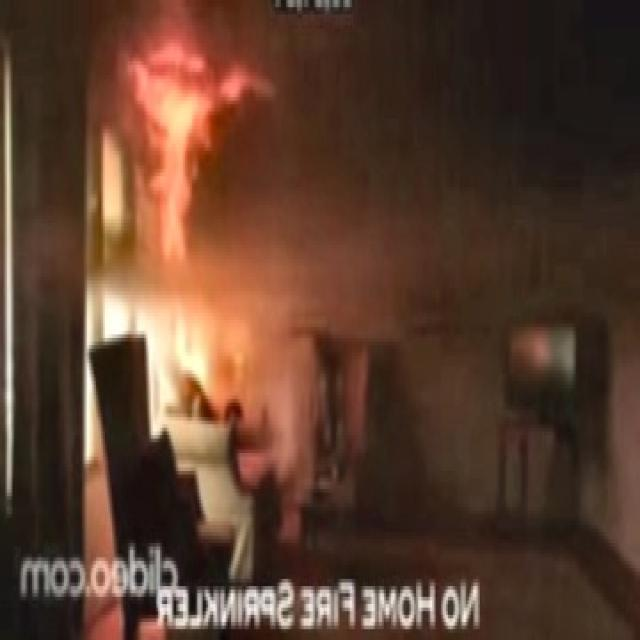fire: (117, 20, 271, 433)
